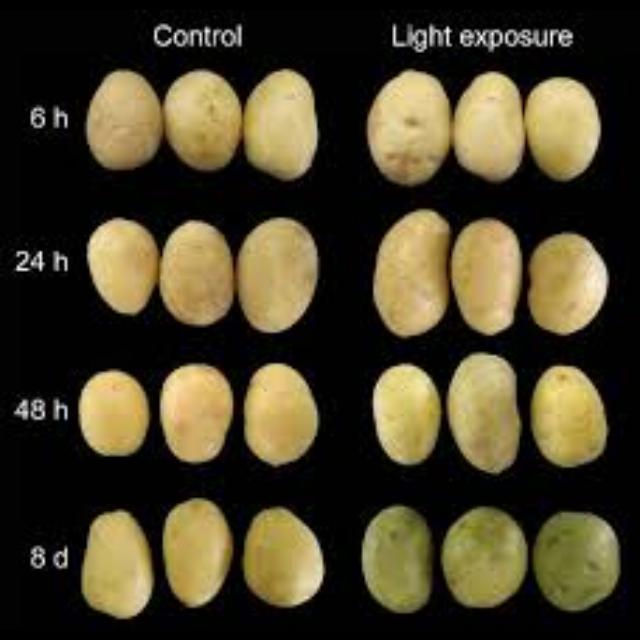Defected potato: (351, 505, 444, 615), (436, 503, 524, 612), (526, 508, 618, 610), (527, 366, 605, 470)
Potato: (443, 348, 531, 480), (444, 214, 528, 342), (524, 224, 612, 346), (362, 65, 448, 188), (237, 214, 326, 330), (370, 208, 450, 334), (242, 61, 322, 185), (526, 72, 612, 186), (154, 214, 238, 328), (164, 66, 242, 174), (458, 75, 528, 195), (240, 504, 322, 606), (371, 358, 445, 470), (162, 490, 232, 608), (155, 362, 235, 464), (85, 70, 163, 174), (243, 363, 321, 467), (82, 500, 154, 606), (70, 368, 152, 458), (89, 214, 159, 316)
